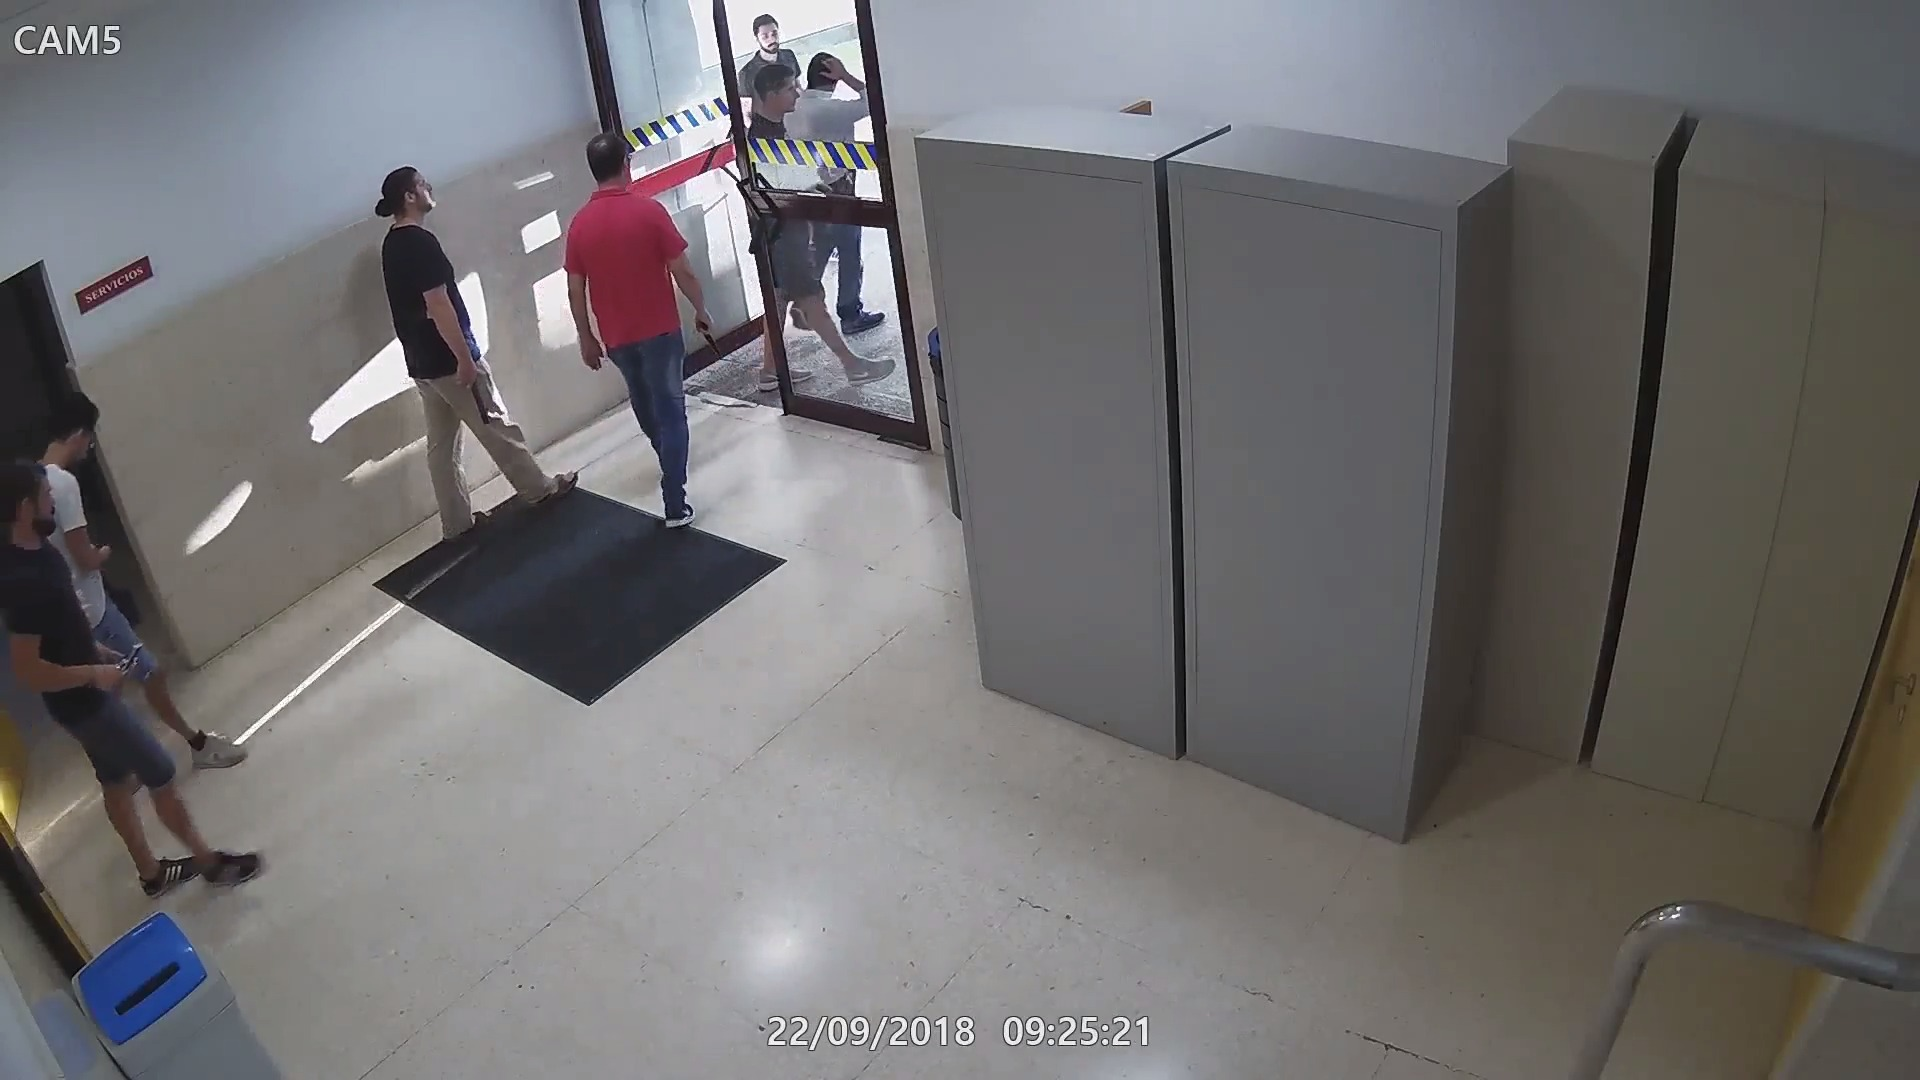Handgun: (96, 636, 161, 696), (694, 305, 723, 375)
Short_rifle: (454, 343, 497, 426)
